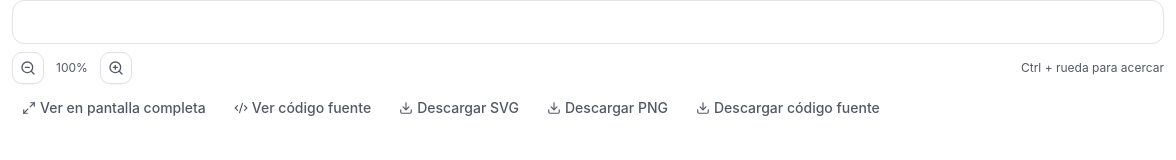
DiagramViewer — PNG download › shows that the image is being prepared and ignores a second click until it arrives
This screenshot has width=1176, height=160.
Click the button "Descargar PNG" at (608, 108), box left=537, top=92, right=678, bottom=124
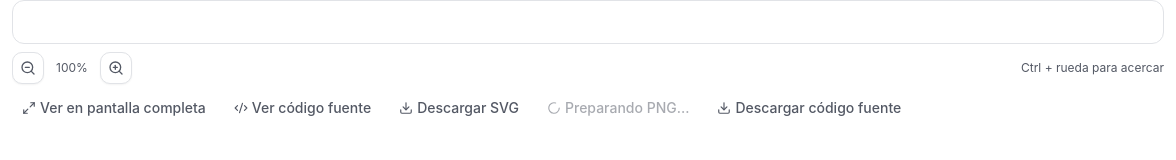
Expected: the button "Preparando PNG…" is disabled
Click the button "Preparando PNG…" at (618, 108), box left=537, top=92, right=700, bottom=124
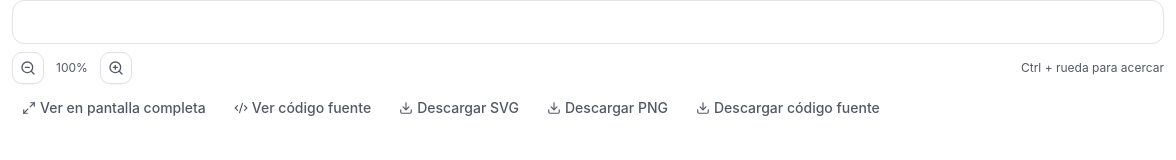
Expected: the button "Descargar PNG" is enabled, left=537, top=92, right=678, bottom=124
